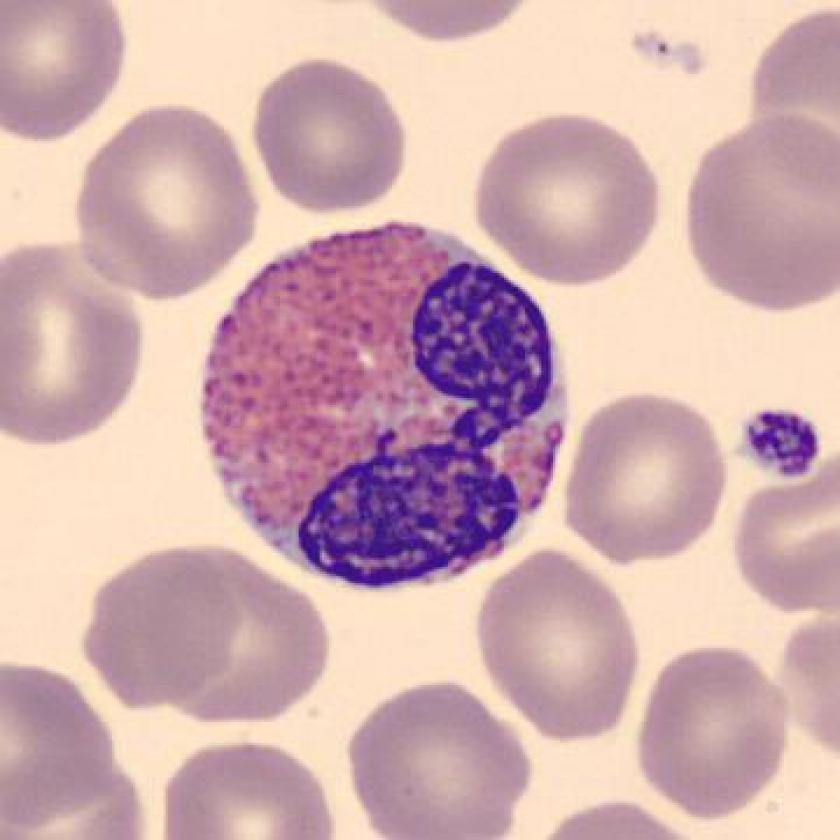eosinophil: (188, 207, 584, 607)
